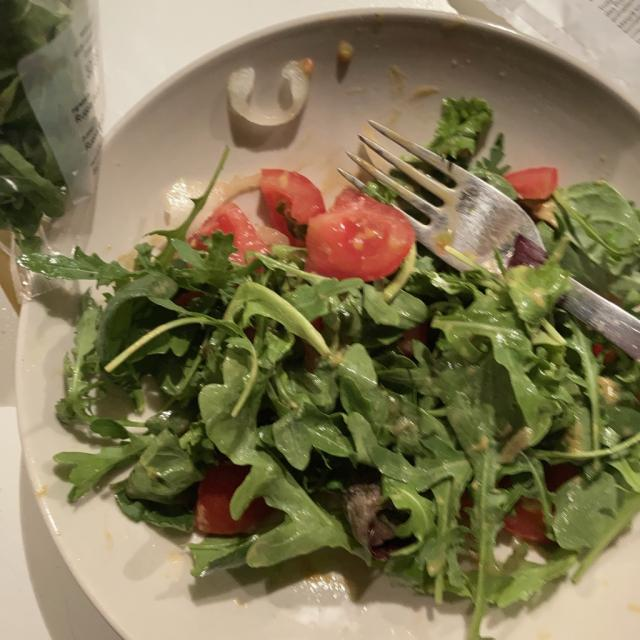Green Salad: (61, 153, 640, 616)
